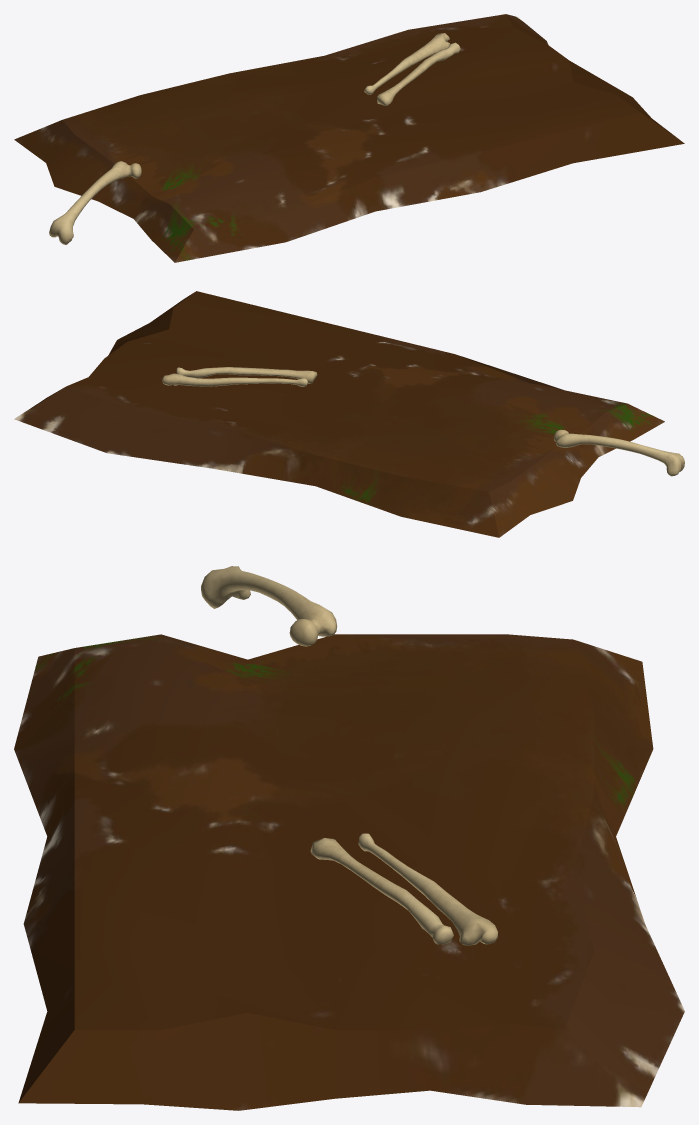
The model's file is tierra_tumba_huesos.fbx.
The picture shows the model from 3 angles, top to bottom: view 1: azimuth 30°, elevation 25°; view 2: azimuth 150°, elevation 25°; view 3: azimuth 270°, elevation 25°; orthographic projection. The views are drawn at different scales.
Visible parts, largest first — view 1: Tumba:pCube1; view 2: Tumba:pCube1; view 3: Tumba:pCube1.
Boxes of the visible parts, x1,y1,x2,y2 form: Tumba:pCube1: [14, 14, 684, 262]; Tumba:pCube1: [14, 291, 684, 537]; Tumba:pCube1: [14, 566, 684, 1110].
Bounding box in the file's own units: 5.28 × 0.3976 × 2.9.
